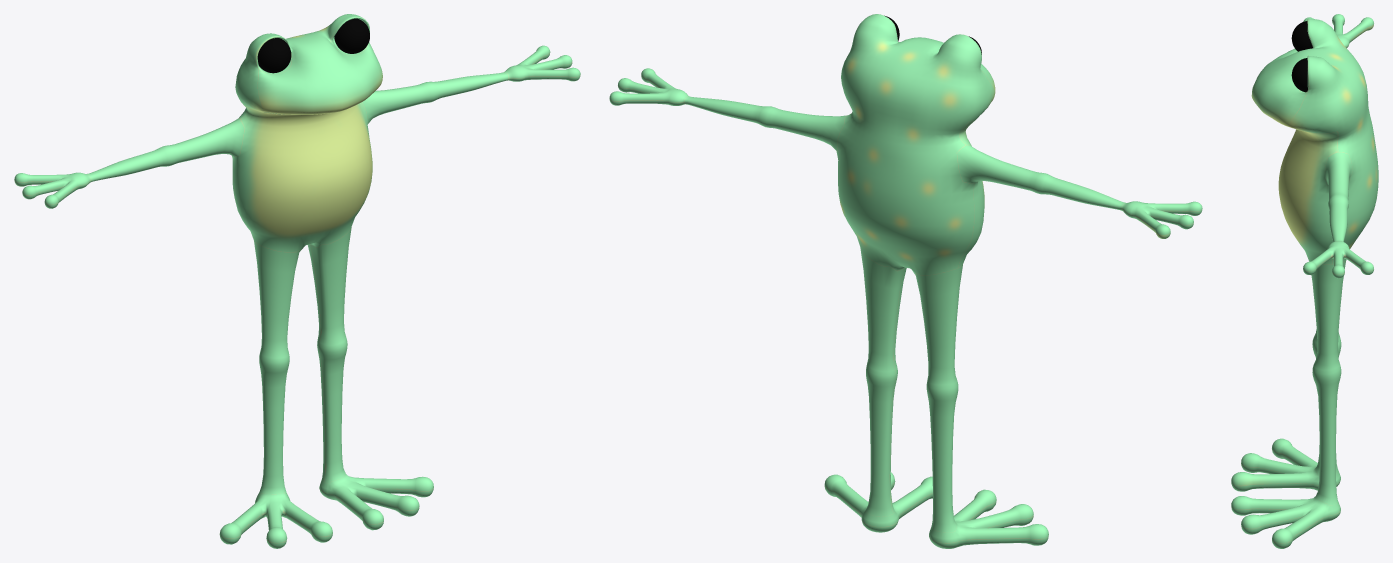
Rendered from frog.glb.
3 renders of one model, left to right at view 1: azimuth 30°, elevation 25°; view 2: azimuth 150°, elevation 25°; view 3: azimuth 270°, elevation 25°, orthographic. The views are drawn at different scales.
Visible parts, largest first — view 1: pasted__pSphere1.001; view 2: pasted__pSphere1.001; view 3: pasted__pSphere1.001.
Part boxes in pixels (<box>): pasted__pSphere1.001: <box>14,14,580,548</box>; pasted__pSphere1.001: <box>609,14,1202,548</box>; pasted__pSphere1.001: <box>1231,14,1378,548</box>.
Size of the model in its own units: 1.14 by 0.963 by 0.2771.
Materials: 2 (1 with a texture image).
